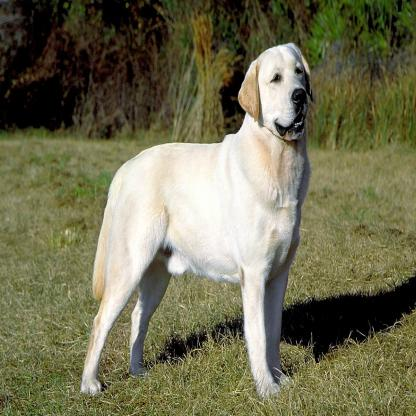Rotveler: (80, 39, 317, 400)
